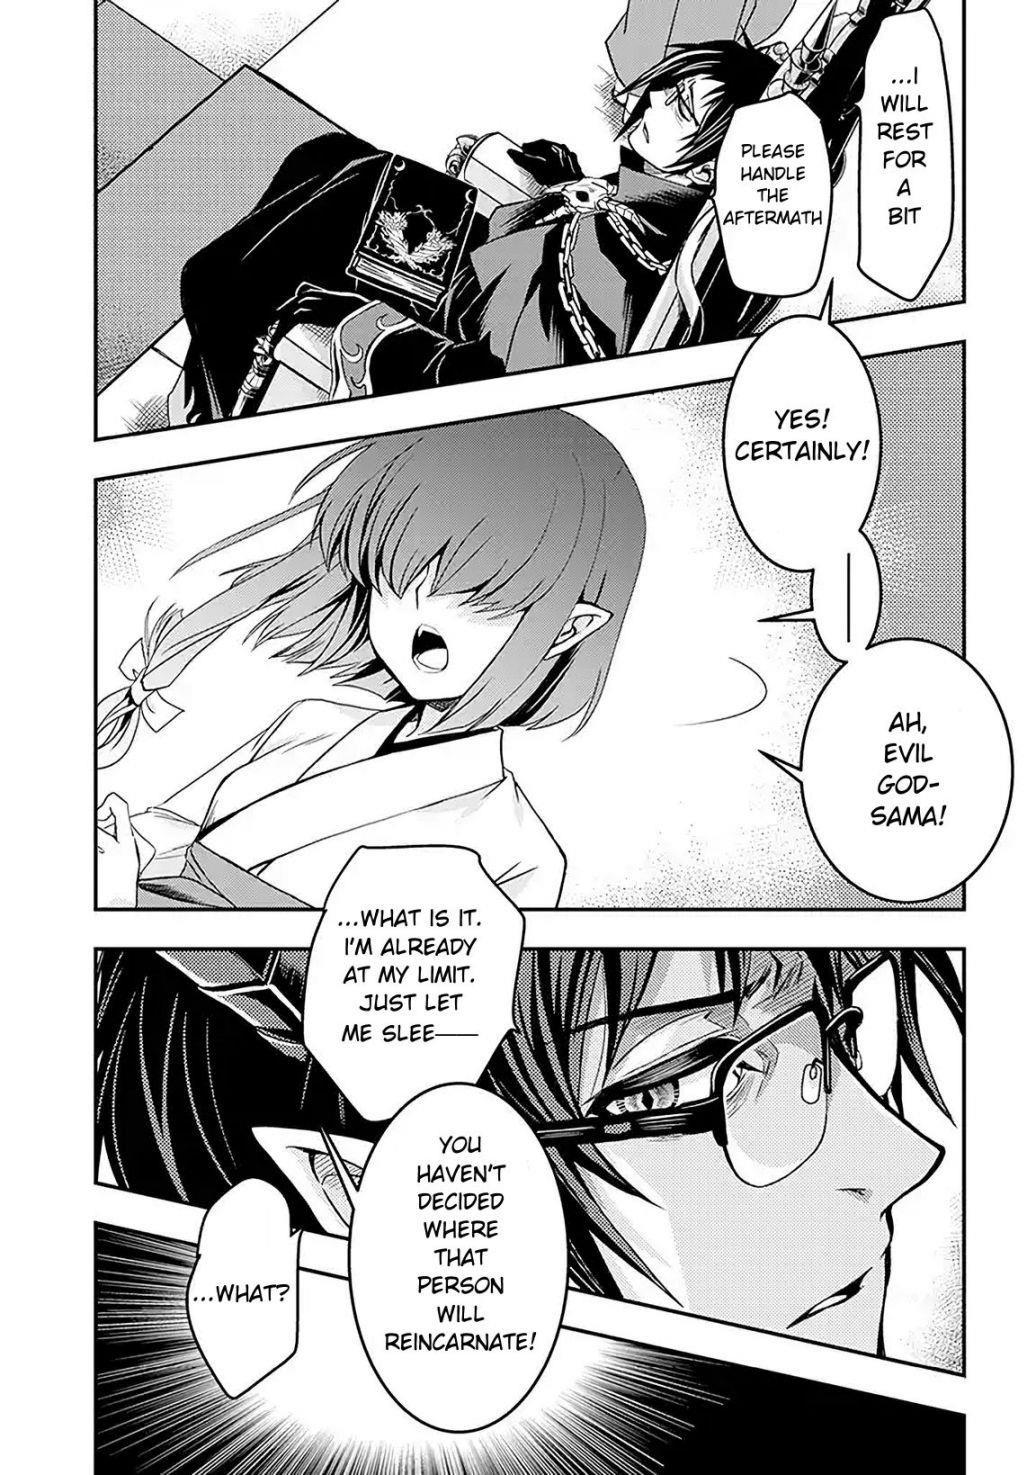Bubble: (345, 1080, 571, 1434), (297, 842, 528, 1074), (801, 661, 1017, 906), (719, 313, 882, 529), (855, 4, 958, 304), (183, 1173, 307, 1402), (705, 92, 834, 299), (807, 548, 885, 649)
